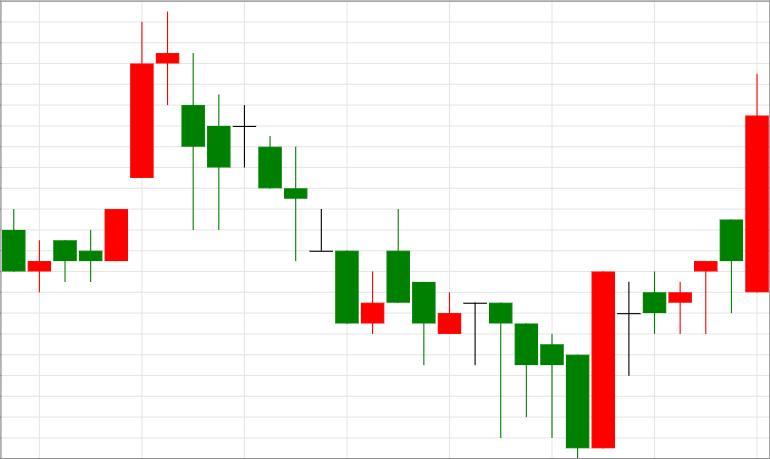evening_star_fall: (28, 13, 205, 292)
